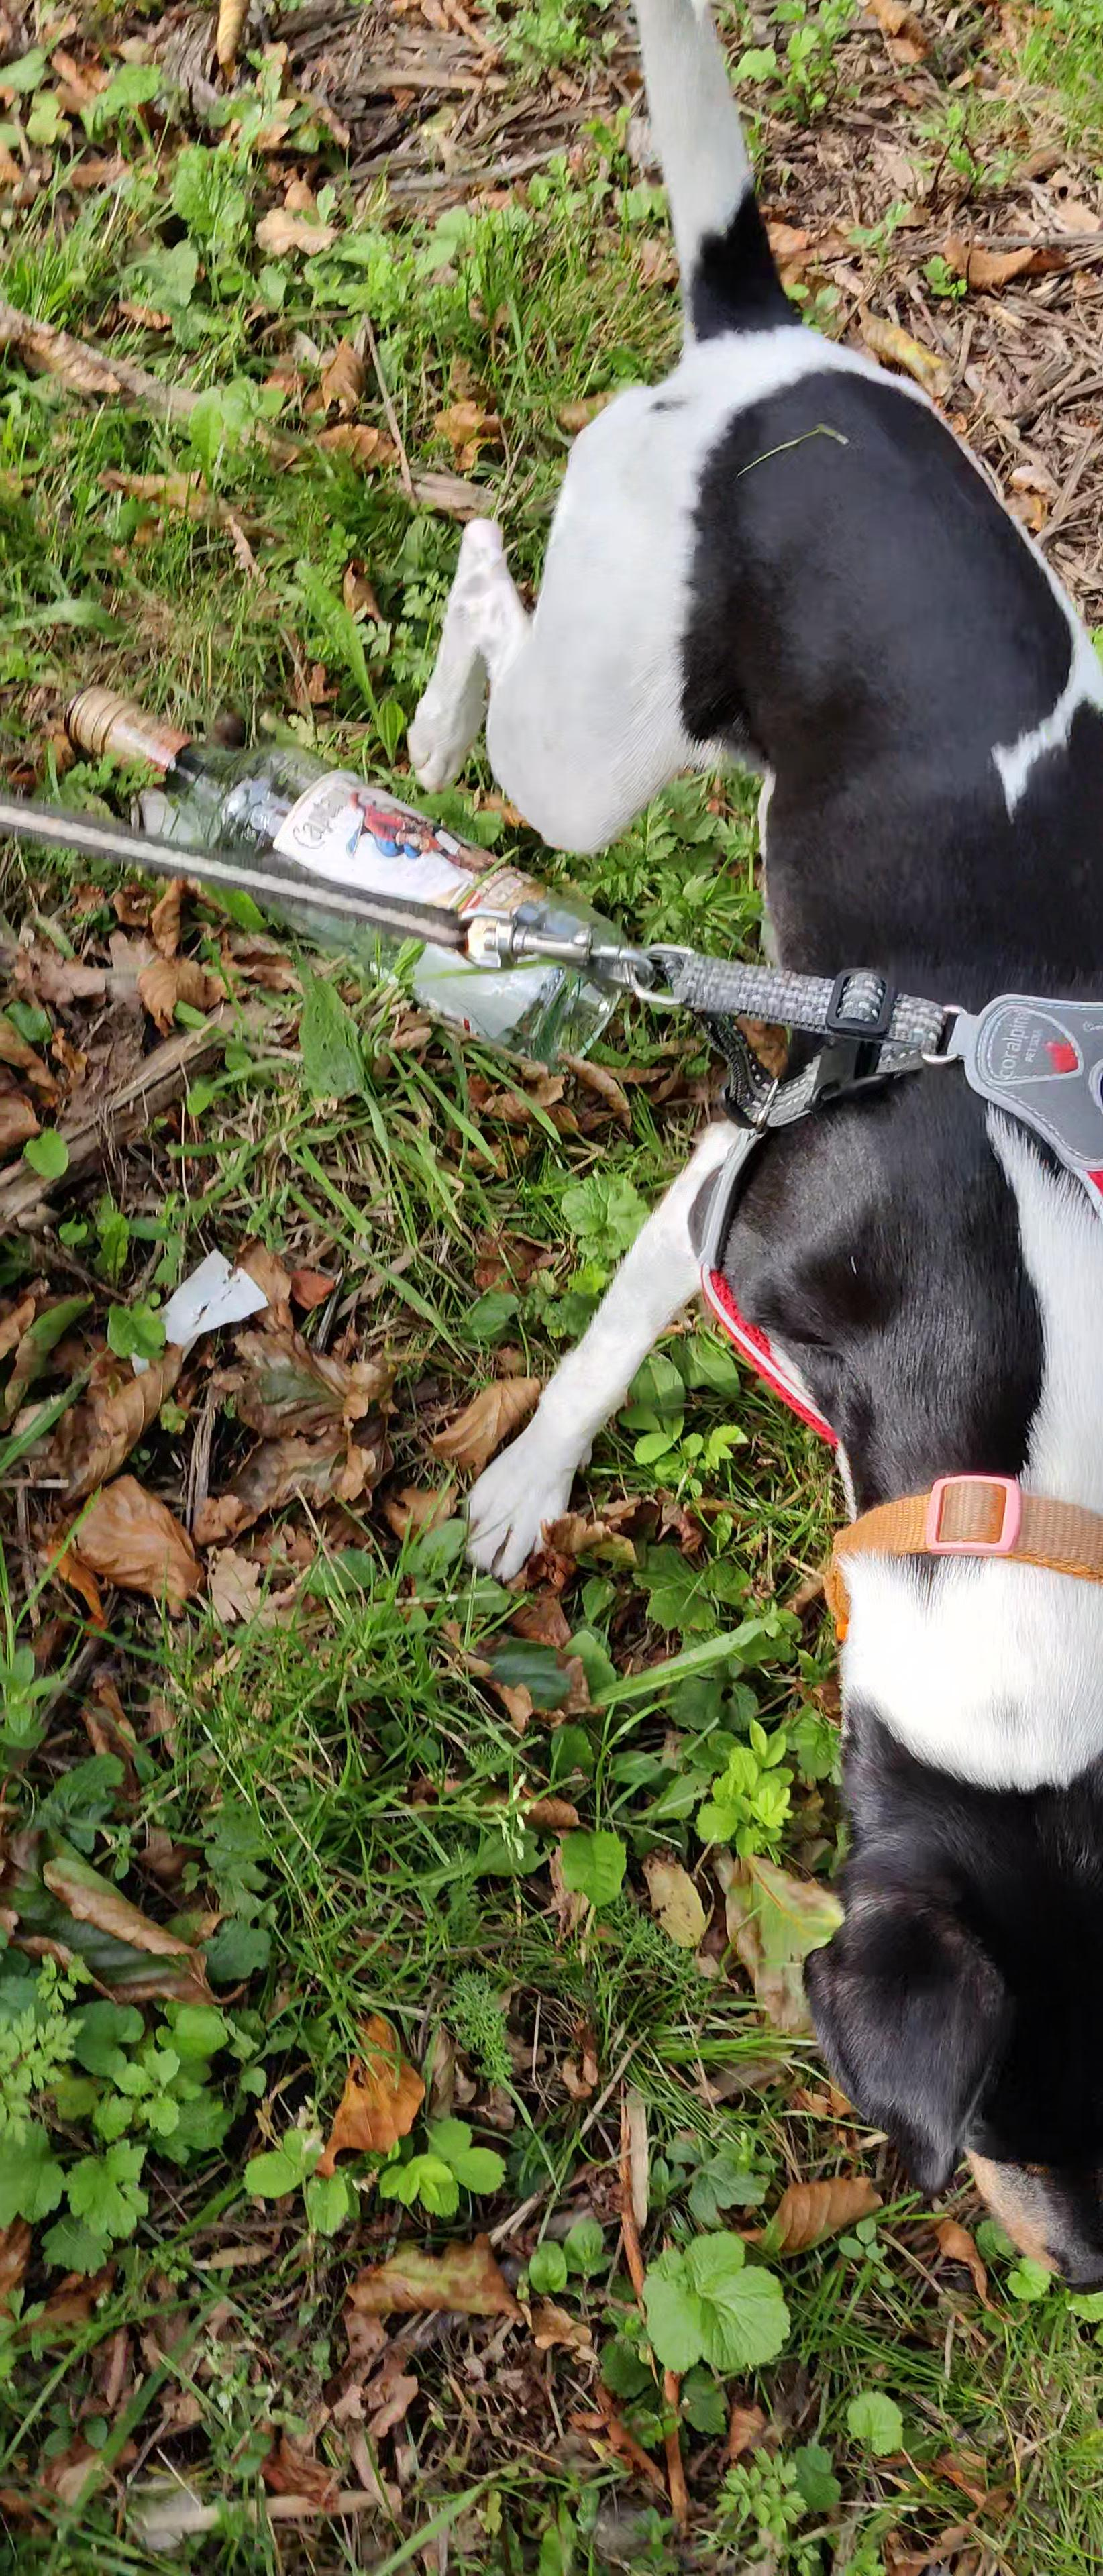Dog: (391, 0, 1103, 2313)
